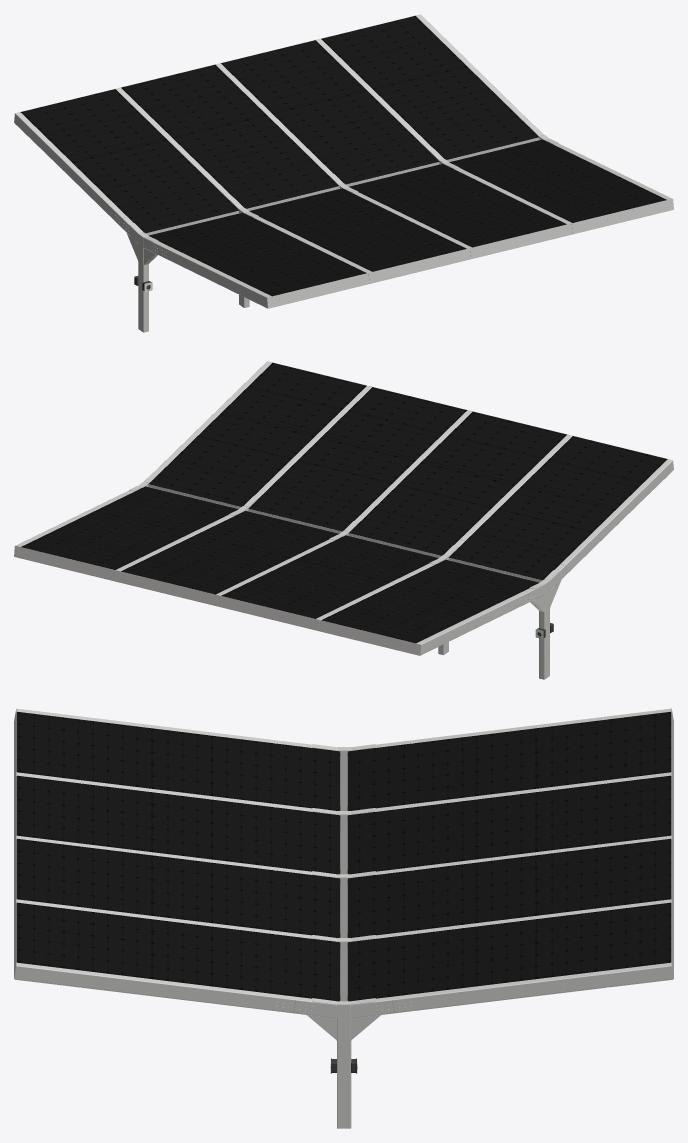
The model's file is Pac_8.glb.
The picture shows the model from 3 angles, top to bottom: view 1: azimuth 30°, elevation 25°; view 2: azimuth 150°, elevation 25°; view 3: azimuth 270°, elevation 25°; orthographic projection. The views are drawn at different scales.
Visible parts, largest first — view 1: Left.167, Left.182, Left.152, Left.173, Left.177, Left.162, Left.147, Left.185, Left.159; view 2: Left.167, Left.182, Left.152, Left.173, Left.177, Left.162, Left.147, Left.185, Left.159; view 3: Left.167, Left.182, Left.152, Left.147, Left.162, Left.155, Left.177, Left.173, Left.170, Left.164, Plane.013.
Boxes of the visible parts, bbox=[...] form: Left.167: bbox=[121, 40, 566, 271]; Left.182: bbox=[20, 89, 366, 296]; Left.152: bbox=[321, 16, 666, 222]; Left.173: bbox=[14, 14, 673, 308]; Left.177: bbox=[14, 112, 271, 307]; Left.162: bbox=[116, 63, 471, 281]; Left.147: bbox=[316, 14, 671, 233]; Left.185: bbox=[138, 232, 148, 332]; Left.159: bbox=[247, 162, 440, 210]; Left.167: bbox=[121, 387, 566, 618]; Left.182: bbox=[321, 436, 667, 643]; Left.152: bbox=[21, 362, 366, 569]; Left.173: bbox=[14, 361, 673, 655]; Left.177: bbox=[416, 459, 673, 654]; Left.162: bbox=[216, 410, 572, 619]; Left.147: bbox=[16, 361, 371, 571]; Left.185: bbox=[539, 579, 549, 679]; Left.159: bbox=[247, 509, 441, 557]; Left.167: bbox=[16, 775, 671, 937]; Left.182: bbox=[16, 711, 671, 810]; Left.152: bbox=[16, 902, 671, 1001]; Left.147: bbox=[14, 899, 673, 1017]; Left.162: bbox=[16, 772, 671, 877]; Left.155: bbox=[337, 938, 351, 1128]; Left.177: bbox=[16, 708, 671, 750]; Left.173: bbox=[14, 708, 673, 978]; Left.170: bbox=[337, 811, 351, 937]; Left.164: bbox=[14, 790, 673, 1014]; Plane.013: bbox=[307, 1015, 380, 1039].
Bounding box in the file's own units: 10.75 × 3.15 × 11.57.
Materials: 6 (5 with a texture image).
